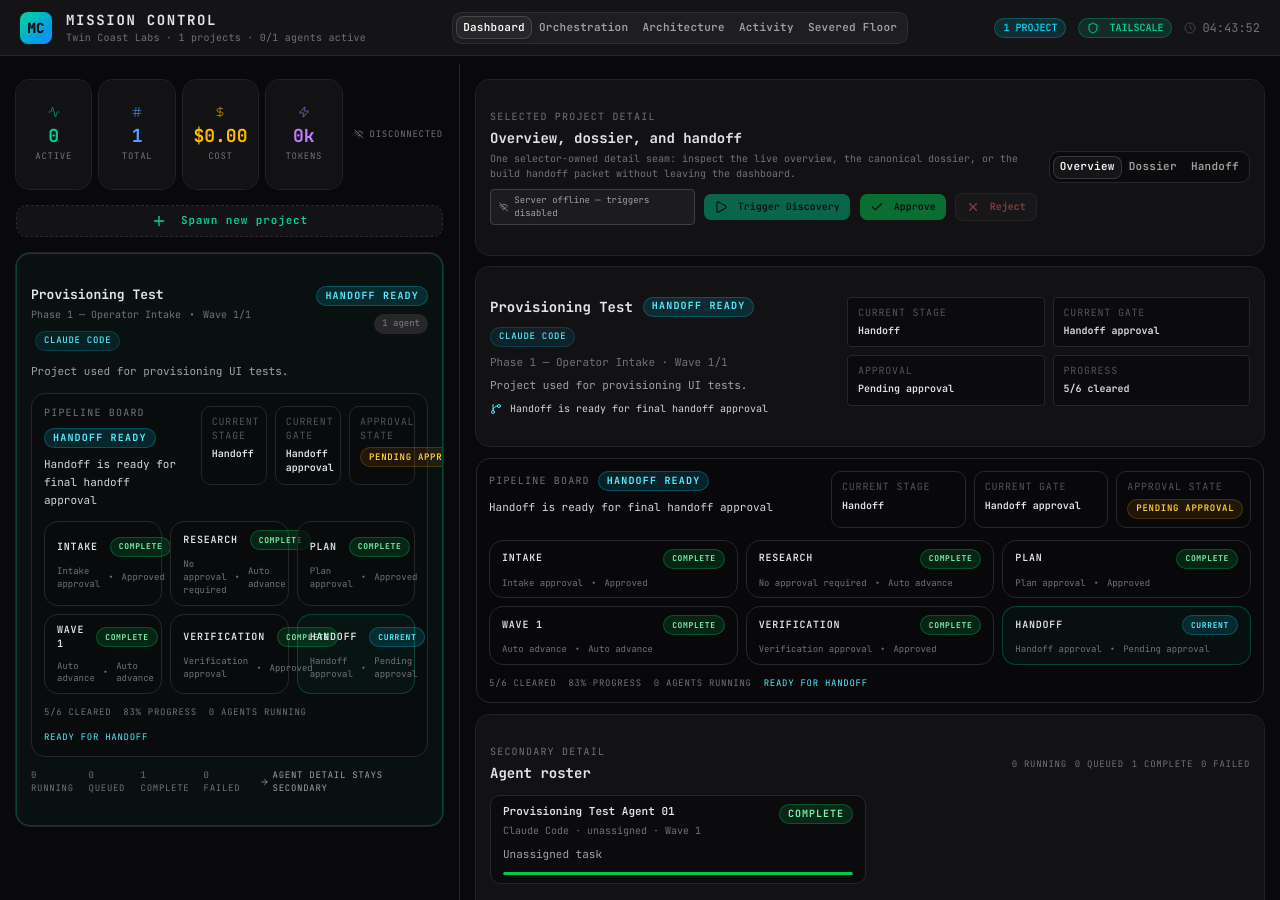
Test: Provisioning UI in HandoffPanel › confirmation dialog › shows warning text about irreversible action
The width and height of the screenshot is (1280, 900).
Step 1. Click the tab "Handoff" → click(1215, 167), box [1184, 156, 1246, 179]
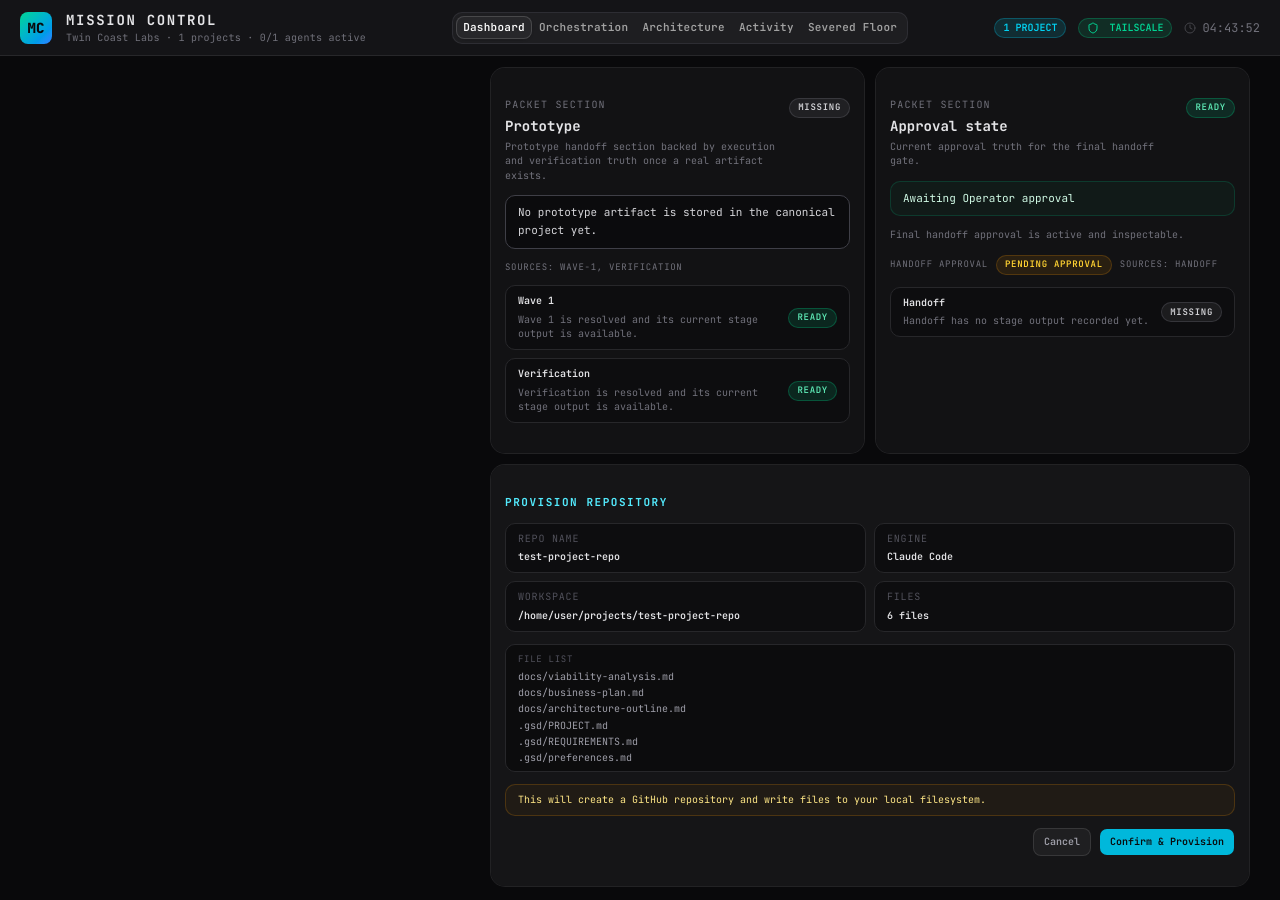
Now the text "This will create a GitHub repository" is shown, box [518, 793, 986, 806]
